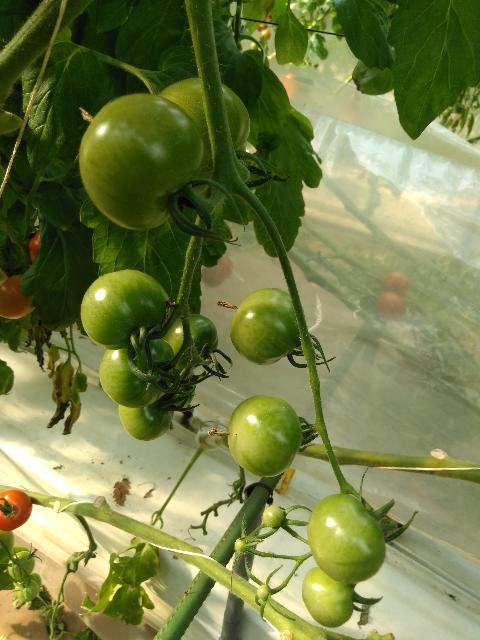l_fully_ripened: (1, 489, 32, 531)
l_green: (79, 94, 204, 230), (156, 78, 250, 195), (81, 269, 171, 350), (308, 493, 386, 583), (228, 394, 304, 477), (229, 287, 305, 365), (99, 333, 175, 409), (158, 313, 219, 371), (301, 567, 354, 628), (118, 396, 176, 441), (167, 366, 197, 407), (7, 551, 35, 579), (15, 579, 39, 602), (262, 506, 284, 528), (257, 585, 270, 601), (235, 538, 247, 552)
l_half_ripened: (0, 274, 38, 320)
